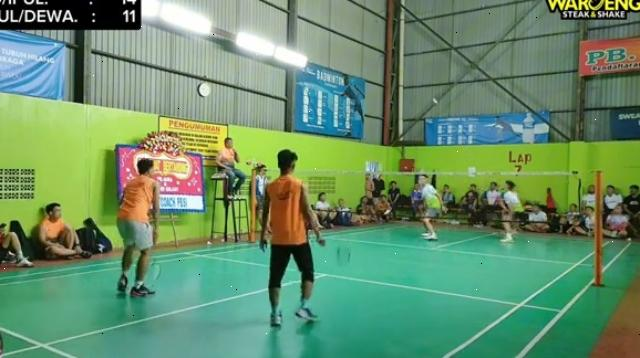Shuttlecock: (433, 96, 443, 107)
